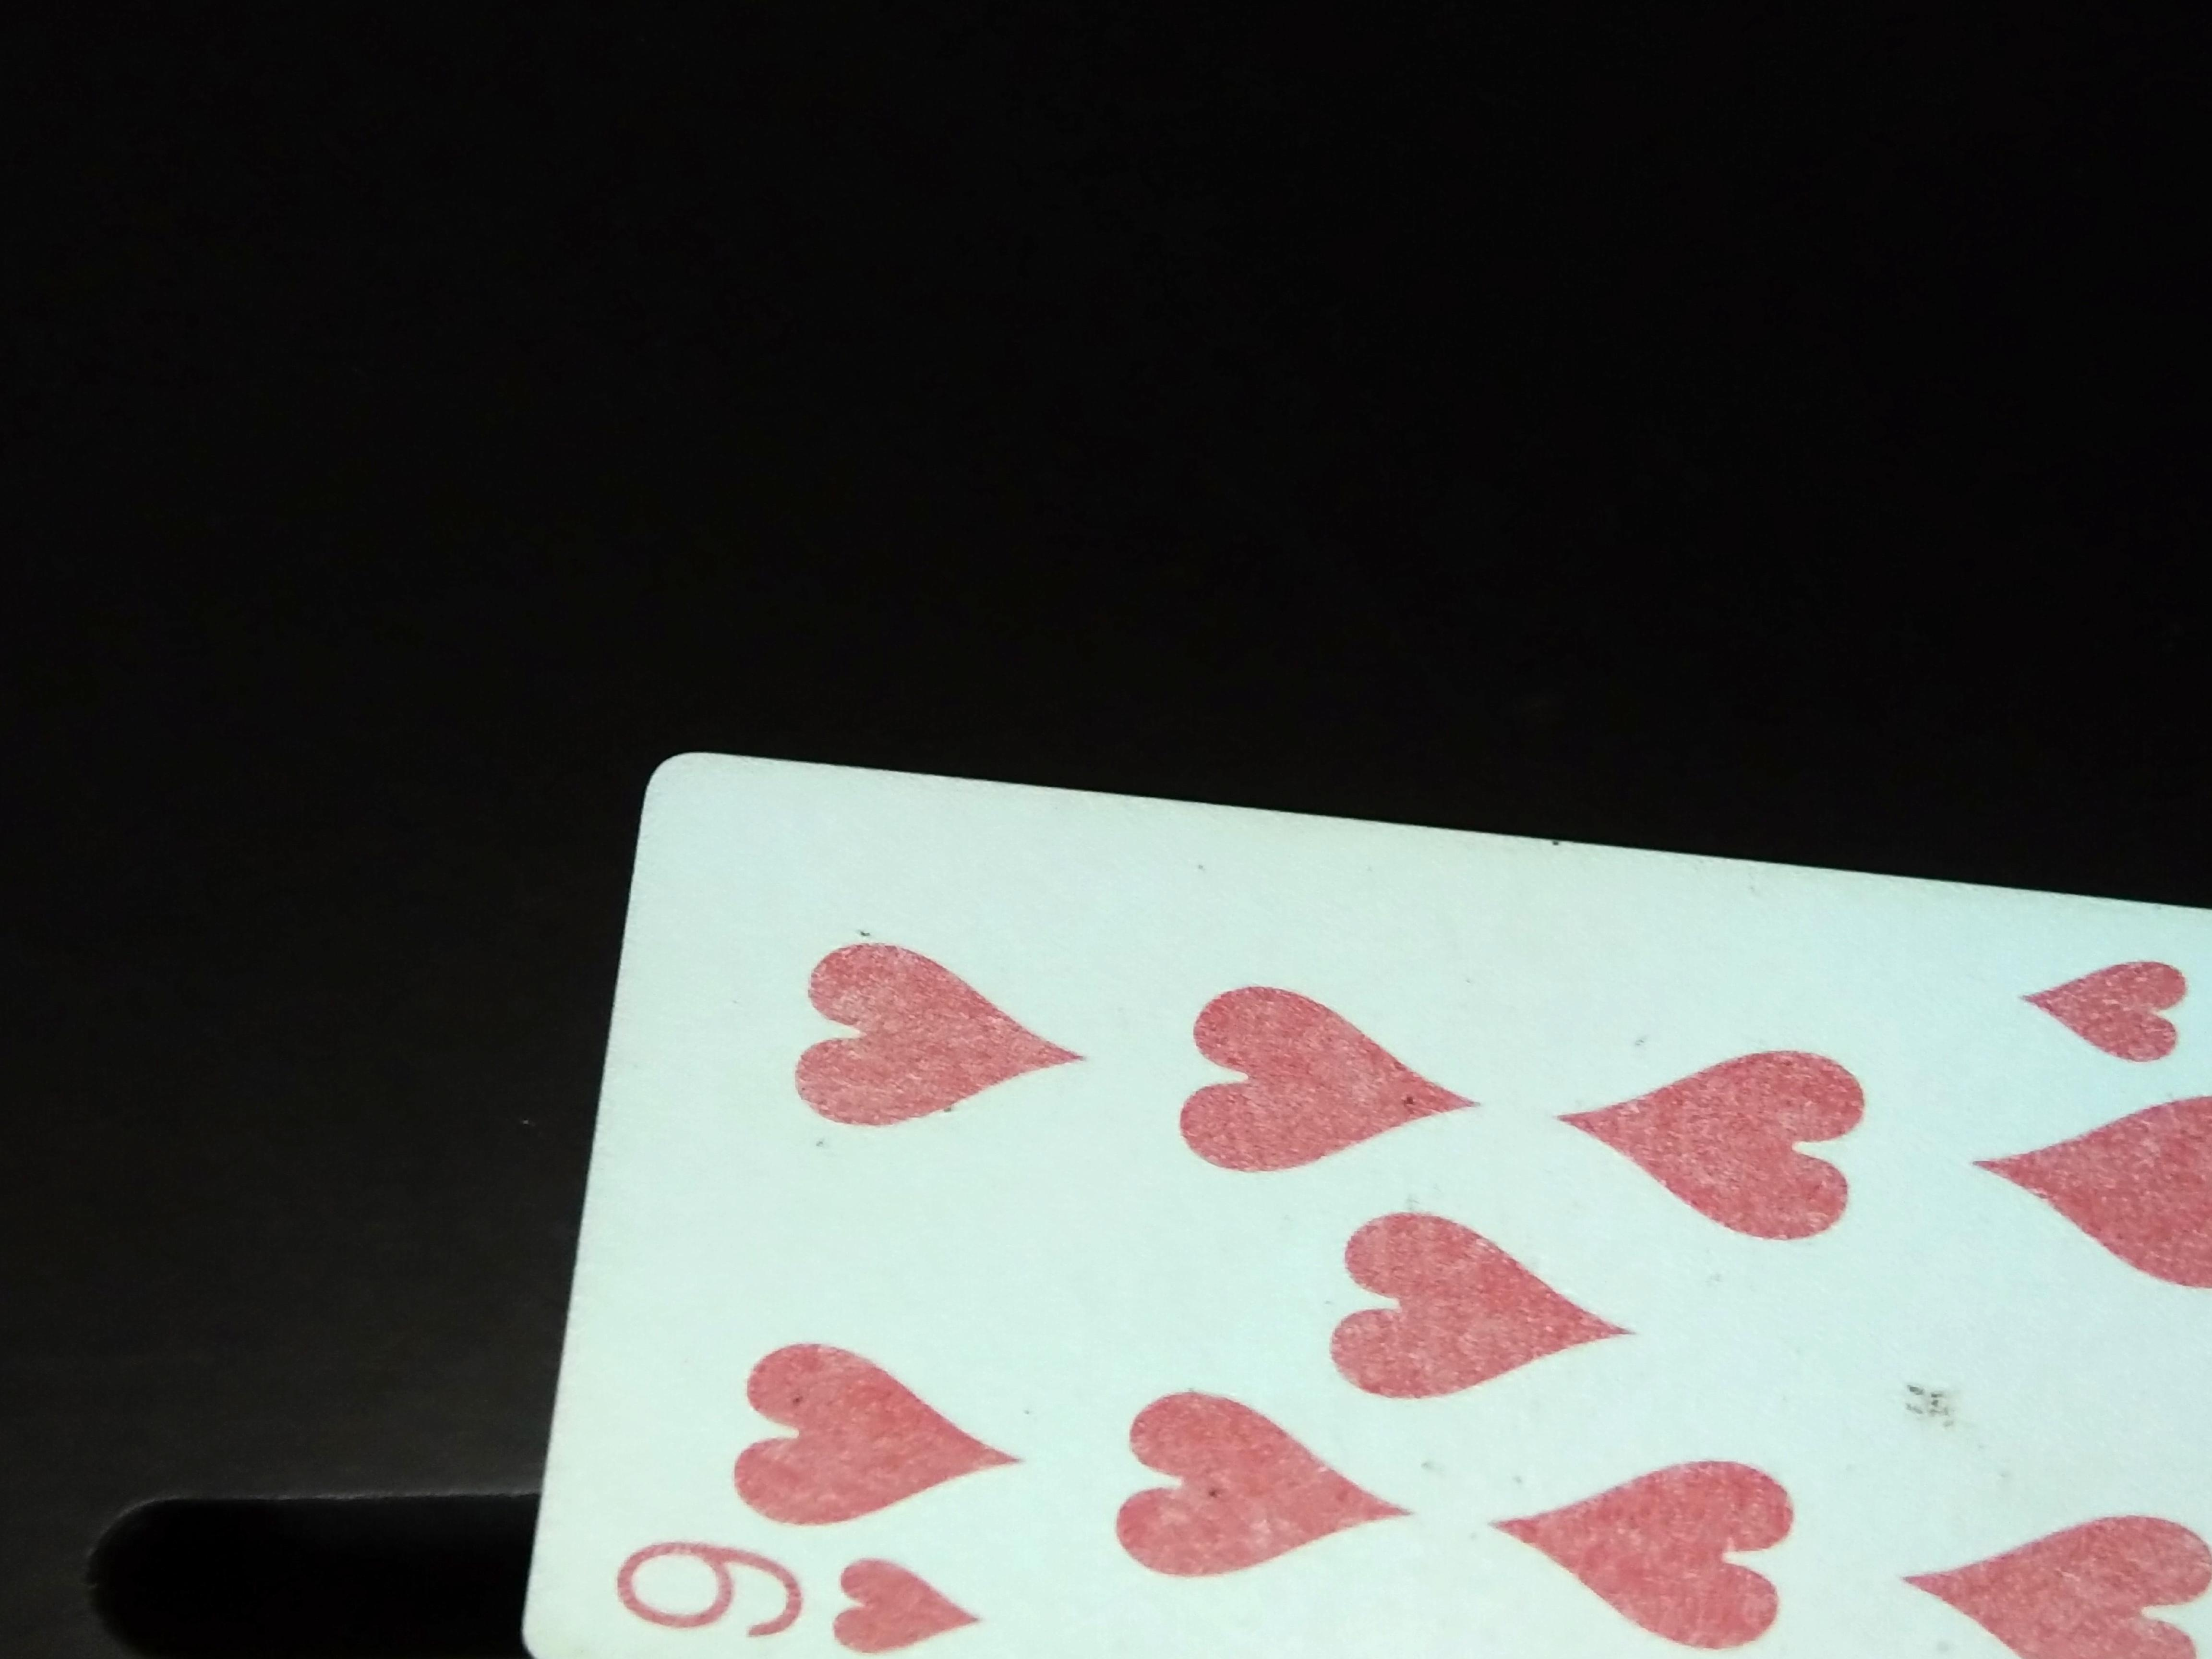9H: (594, 1516, 1005, 1657)
